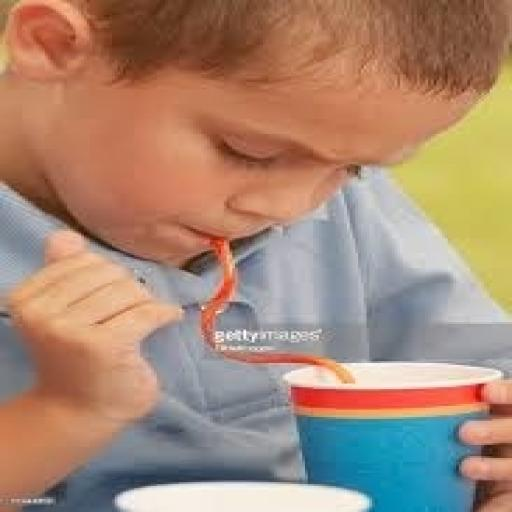drinking: (280, 359, 501, 510)
